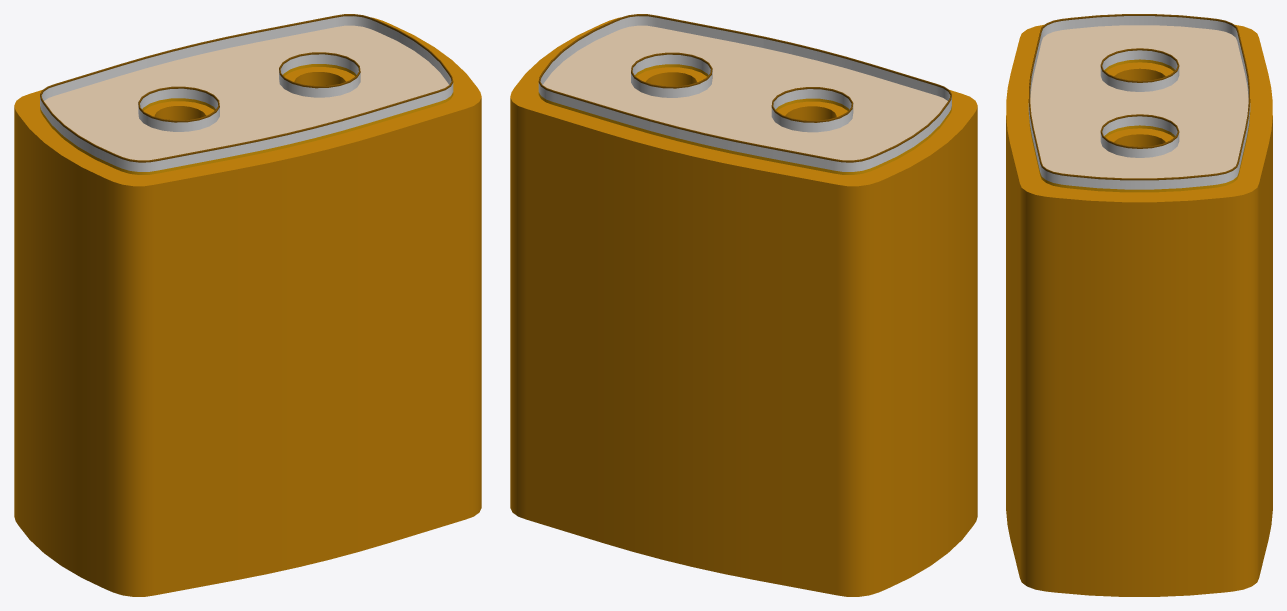
The picture shows the model from 3 angles, left to right: view 1: azimuth 30°, elevation 25°; view 2: azimuth 150°, elevation 25°; view 3: azimuth 270°, elevation 25°; orthographic projection. The views are drawn at different scales.
Visible parts, largest first — view 1: base35, base2, polySurface422, polySurface1183, polySurface1184, polySurface1180, polySurface1181; view 2: base35, base2, polySurface422, polySurface1184, polySurface1183, polySurface1180, polySurface1181; view 3: base35, base2, polySurface422, polySurface1181, polySurface1180, polySurface1184, polySurface1183.
Part boxes in pixels (x1,y1,x2,y2): base35: (14,17,481,596); base2: (40,25,453,174); polySurface422: (40,14,453,162); polySurface1183: (279,54,360,97); polySurface1184: (138,88,219,131); polySurface1180: (40,83,168,171); polySurface1181: (325,16,453,104); base35: (510,17,977,596); base2: (538,25,951,174); polySurface422: (538,14,951,162); polySurface1184: (771,89,853,132); polySurface1183: (631,54,712,97); polySurface1180: (823,83,951,171); polySurface1181: (538,16,666,104); base35: (1006,24,1272,596); base2: (1028,25,1250,192); polySurface422: (1039,14,1239,180); polySurface1181: (1039,159,1239,189); polySurface1180: (1040,16,1238,44); polySurface1184: (1100,50,1179,91); polySurface1183: (1100,116,1179,157).
Bounding box in the file's own units: 113 × 117 × 69.49.
